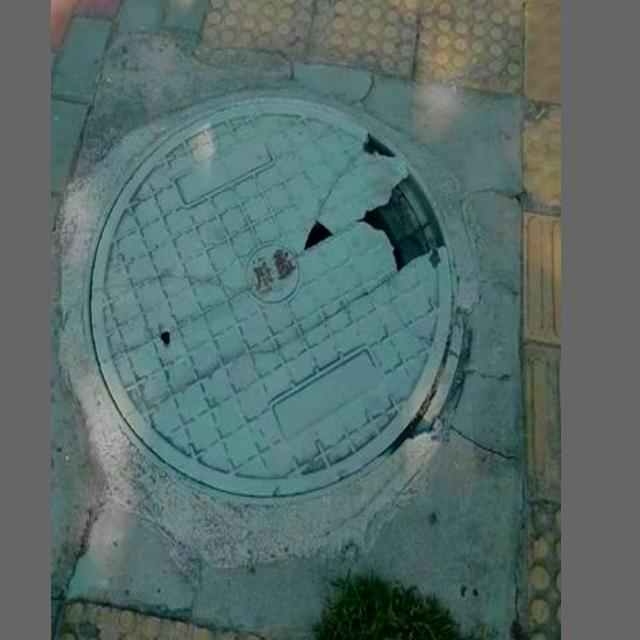broke: (68, 55, 513, 545)
